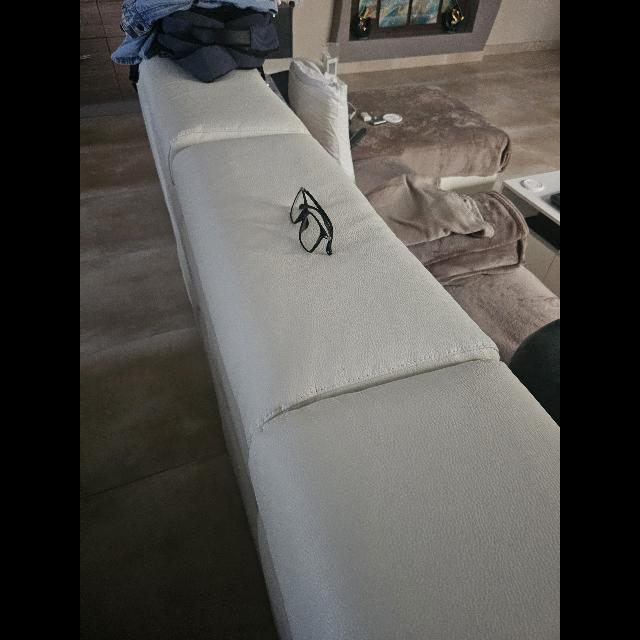glasses: (290, 187, 334, 255)
